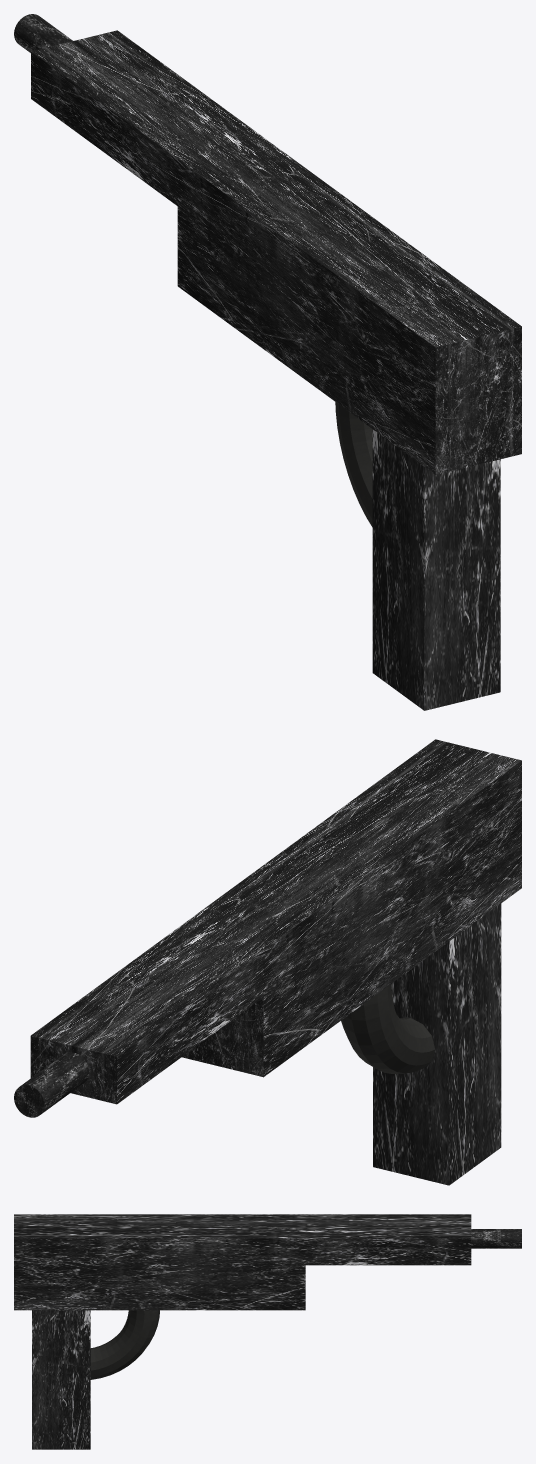
File: pistol.glb
3 renders of one model, top to bottom at view 1: azimuth 30°, elevation 25°; view 2: azimuth 150°, elevation 25°; view 3: azimuth 270°, elevation 25°, orthographic. The views are drawn at different scales.
Visible parts, largest first — view 1: Cube.001, Cube, Torus, Cylinder.001; view 2: Cube.001, Cube, Torus, Cylinder.001; view 3: Cube.001, Cube, Torus, Cylinder.001.
Part boxes in pixels (x1,y1,x2,y2): Cube.001: (31,30,521,474); Cube: (372,429,500,710); Torus: (335,402,372,527); Cylinder.001: (14,14,72,52); Cube.001: (30,739,521,1104); Cube: (373,903,501,1185); Torus: (341,984,434,1073); Cylinder.001: (14,1052,89,1117); Cube.001: (14,1214,471,1310); Cube: (32,1310,90,1449); Torus: (90,1310,159,1379); Cylinder.001: (471,1229,521,1248).
Bounding box in the file's own units: 0.1709 × 0.7112 × 1.54.
Materials: 3 (3 with a texture image).
